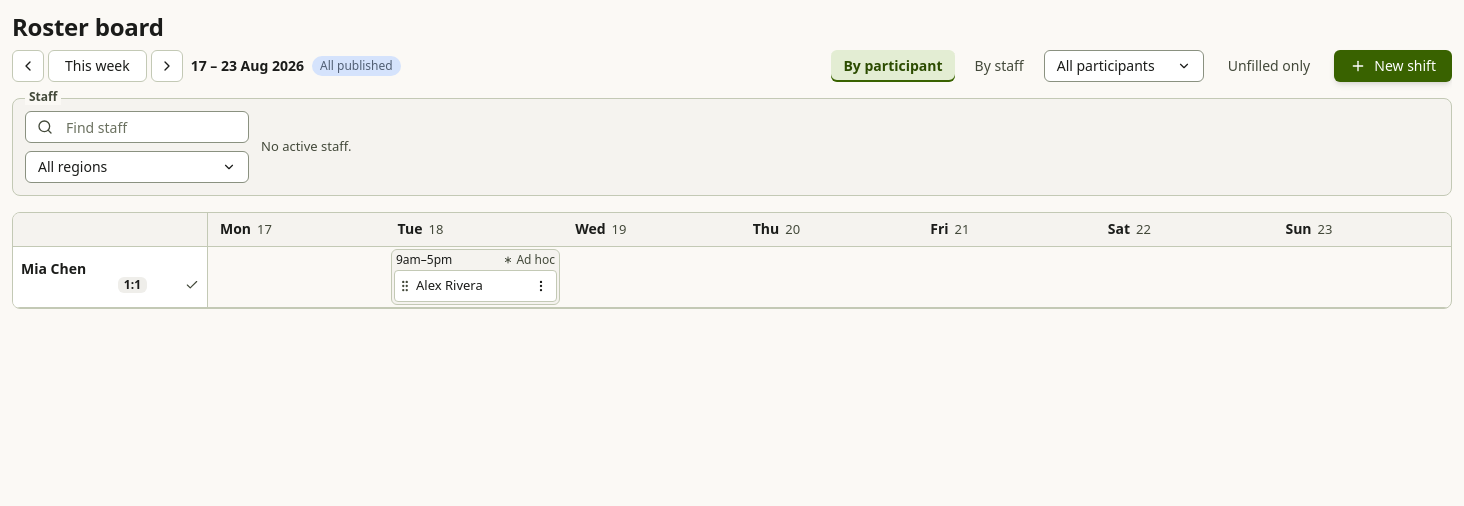
Test: RosterBoardPage — an assign the server refuses is no longer swallowed › shows the server's own message in a dismissible alert, not a generic line, and sent the full body
The image size is (1464, 506).
Click the button named "Actions for Mia Chen's shift": (541, 286) [529, 274, 553, 298]
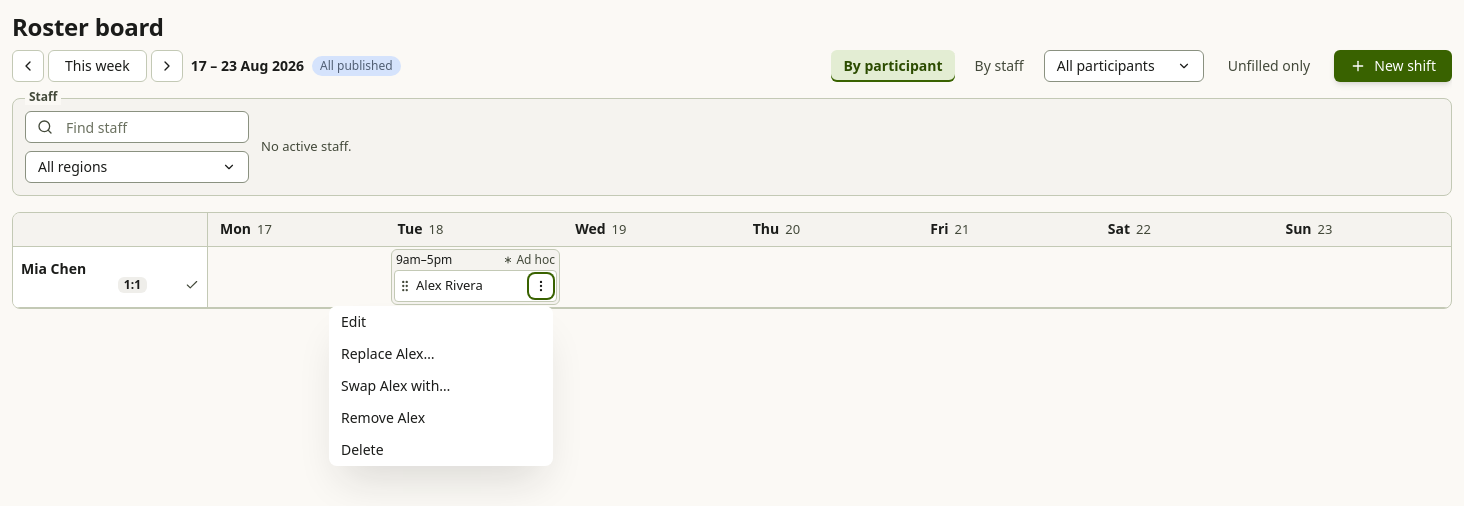
Click the option "Remove Alex": (383, 417) [341, 408, 425, 426]
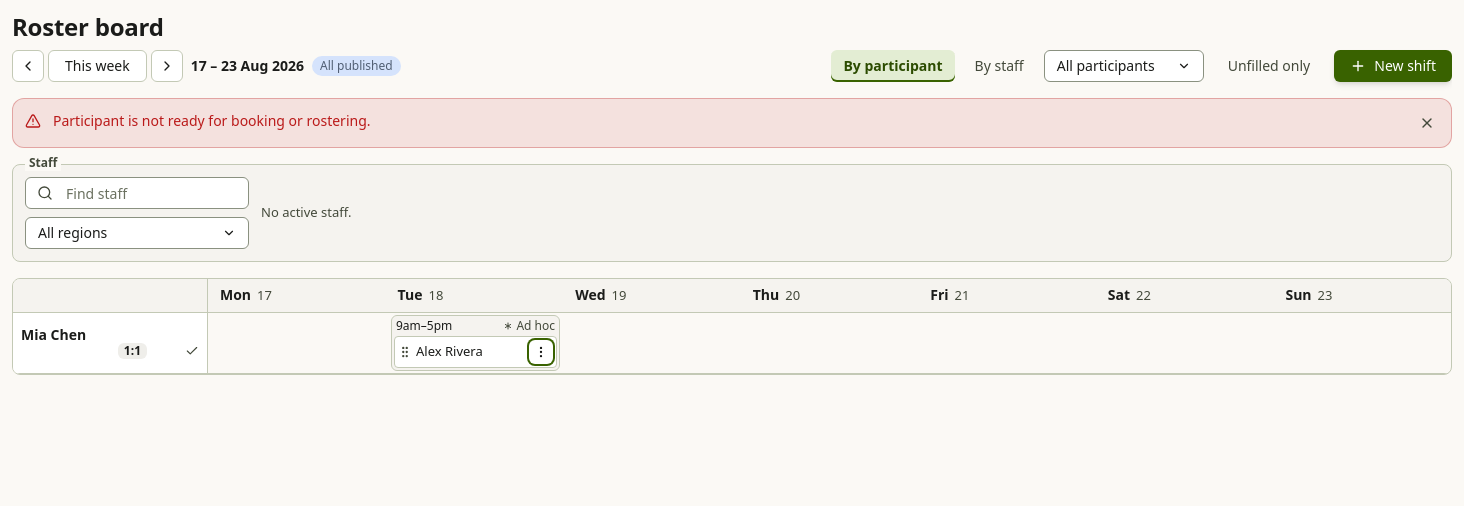
Expected: the text "Participant is not ready for booking or rostering." is shown, [12, 98, 1452, 148]
Click the button named "Dismiss error": (1427, 123) [1415, 111, 1439, 135]
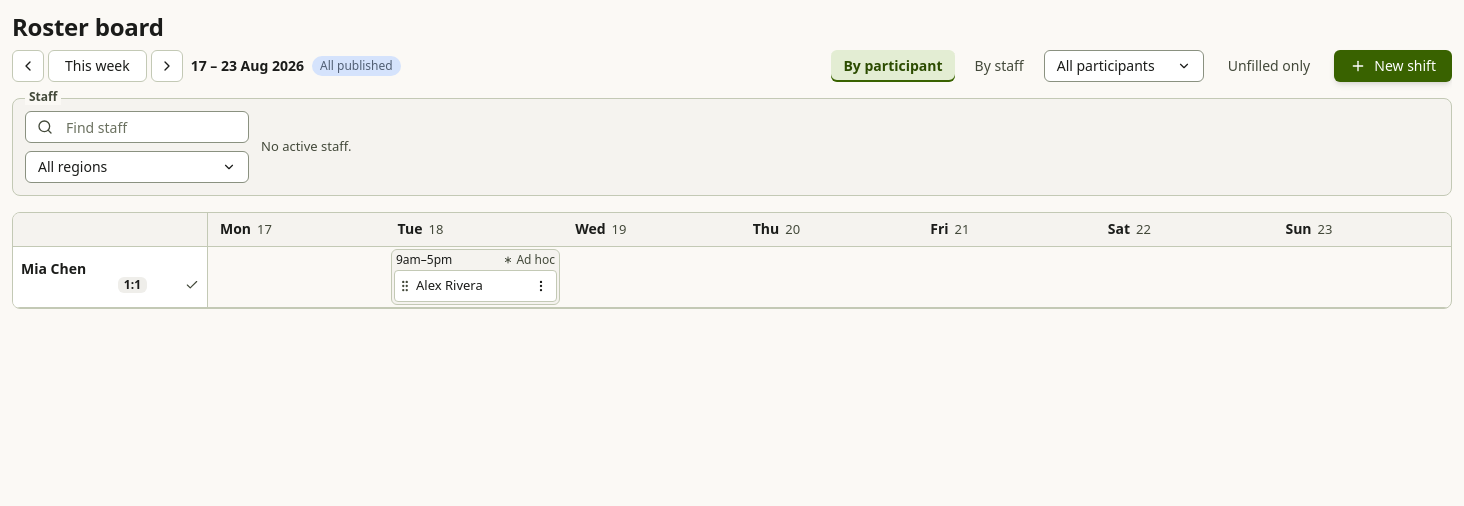
Expected: the text "Participant is not ready for booking or rostering." is gone
